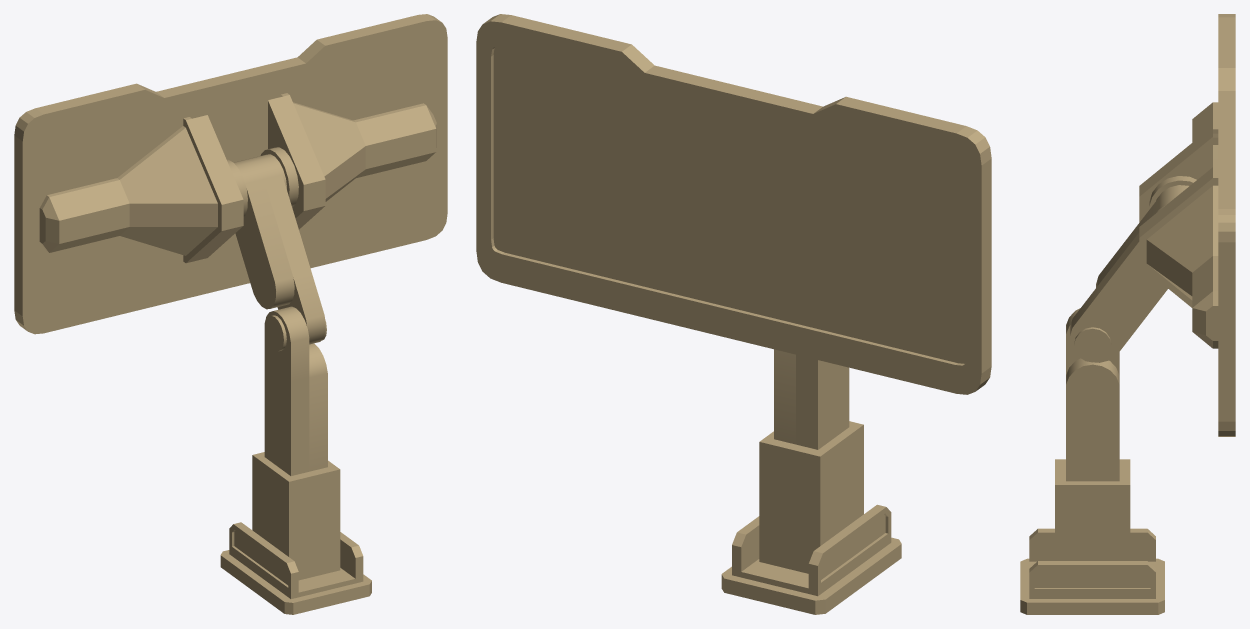
File: Single_Screen.FBX
The picture shows the model from 3 angles, left to right: view 1: azimuth 30°, elevation 25°; view 2: azimuth 150°, elevation 25°; view 3: azimuth 270°, elevation 25°; orthographic projection. The views are drawn at different scales.
Parts seen in each view (by area): view 1: Screens, Screen_Base, Screen_Hinge; view 2: Screens, Screen_Base; view 3: Screen_Base, Screens, Screen_Hinge.
Boxes of the visible parts, x1,y1,x2,y2 form: Screens: [14, 14, 447, 334]; Screen_Base: [220, 306, 371, 614]; Screen_Hinge: [227, 147, 326, 351]; Screens: [476, 14, 991, 394]; Screen_Base: [721, 349, 901, 614]; Screen_Base: [1020, 308, 1164, 614]; Screens: [1139, 14, 1235, 436]; Screen_Hinge: [1070, 176, 1196, 362].
Size of the model in its own units: 400 by 420 by 171.
